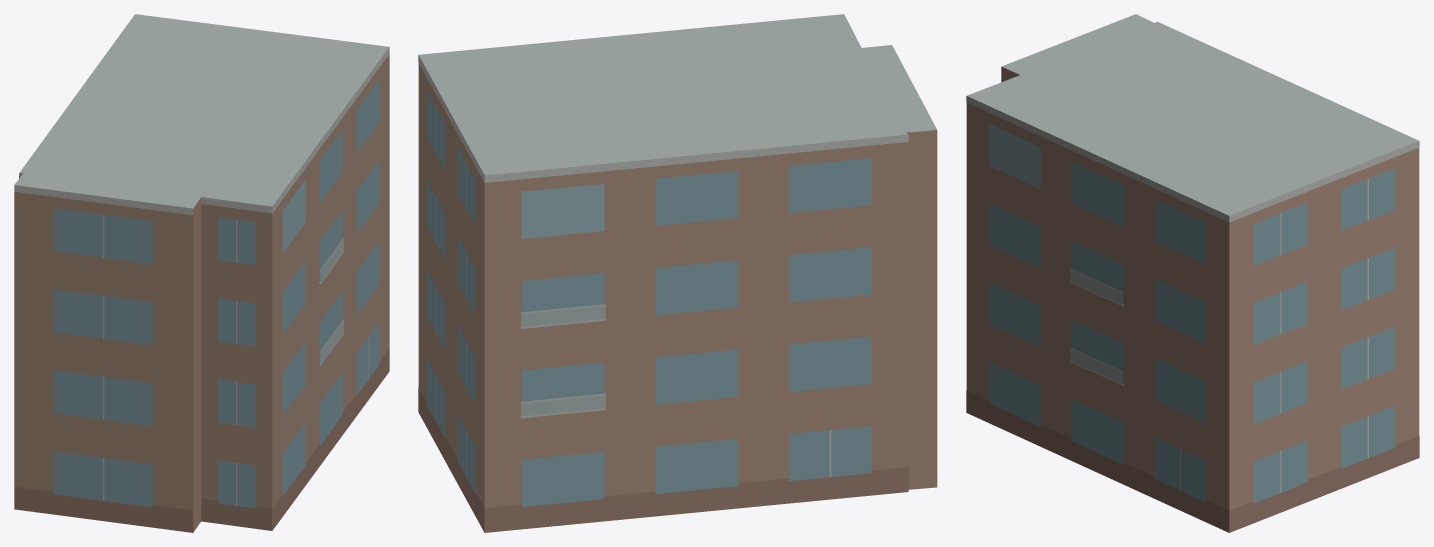
The model's file is survey-upis-32884121.glb.
The picture shows the model from 3 angles, left to right: view 1: azimuth 30°, elevation 25°; view 2: azimuth 150°, elevation 25°; view 3: azimuth 270°, elevation 25°; orthographic projection. The views are drawn at different scales.
Parts seen in each view (by area): view 1: survey-upis-32884121.tmp; view 2: survey-upis-32884121.tmp; view 3: survey-upis-32884121.tmp.
Boxes of the visible parts, x1,y1,x2,y2 form: survey-upis-32884121.tmp: [14, 14, 389, 532]; survey-upis-32884121.tmp: [418, 14, 937, 532]; survey-upis-32884121.tmp: [966, 14, 1419, 532].
Size of the model in its own units: 15.99 by 11.7 by 15.16.
